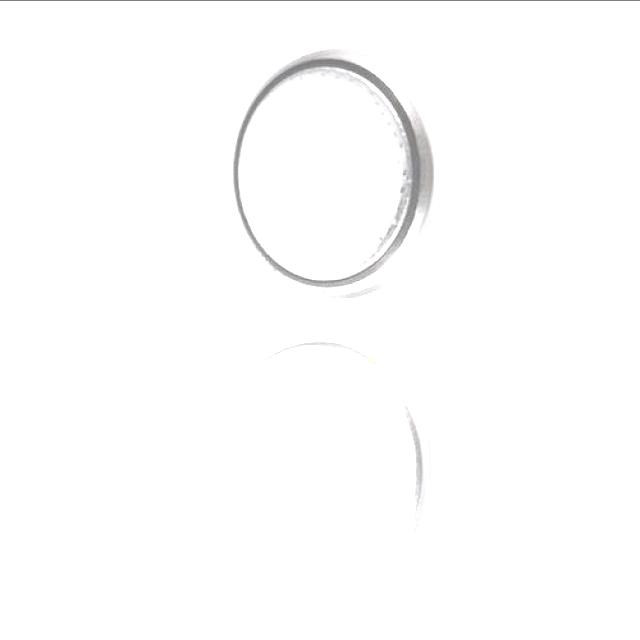COIN: (226, 42, 454, 302), (215, 335, 438, 593)
